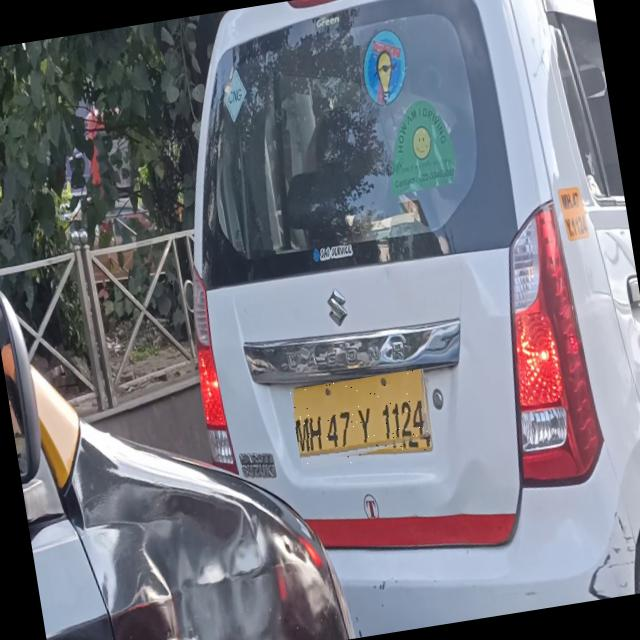Plate: (291, 370, 438, 472)
